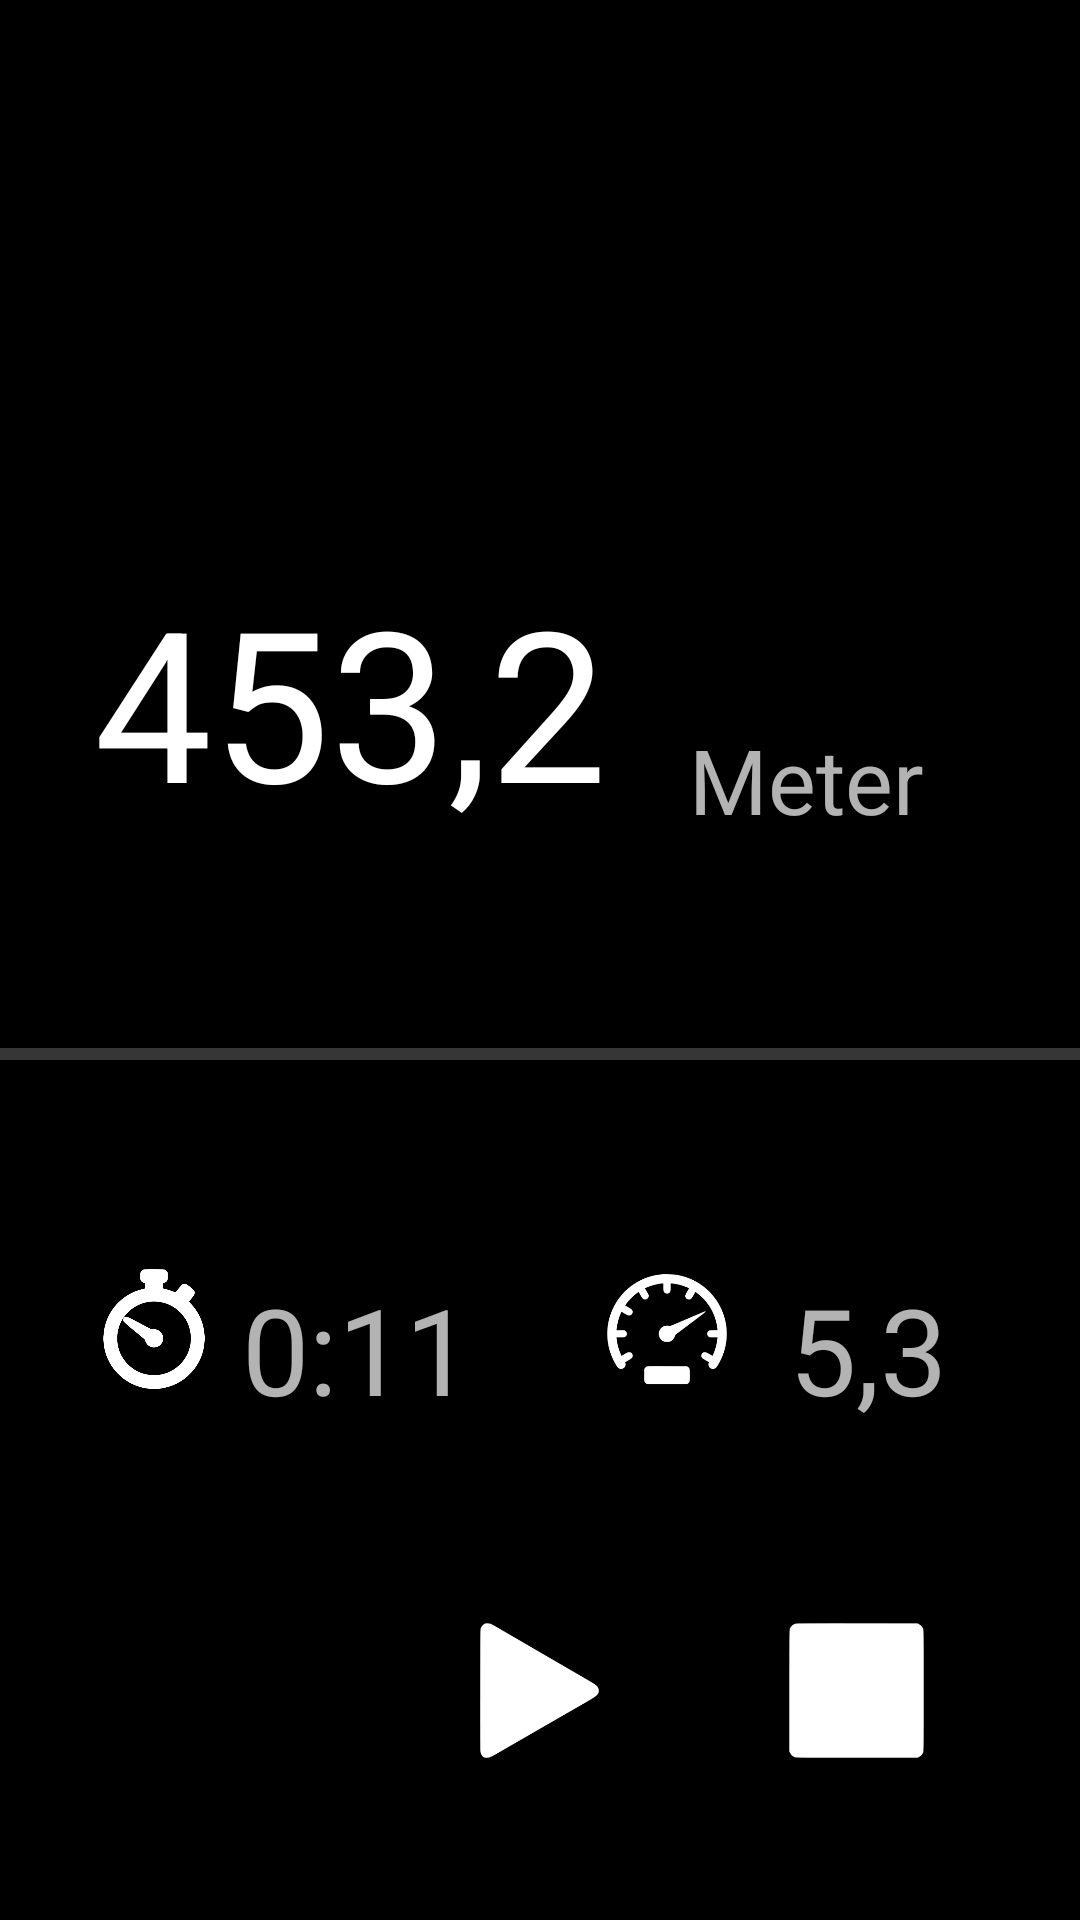

Icon bounding boxes for this 1080 × 1920 phone screenshot, format (x1, y1, x2, y2):
play: (480, 1623, 599, 1758)
speedometer: (607, 1274, 727, 1384)
stop: (789, 1623, 924, 1758)
time: (103, 1269, 205, 1389)
